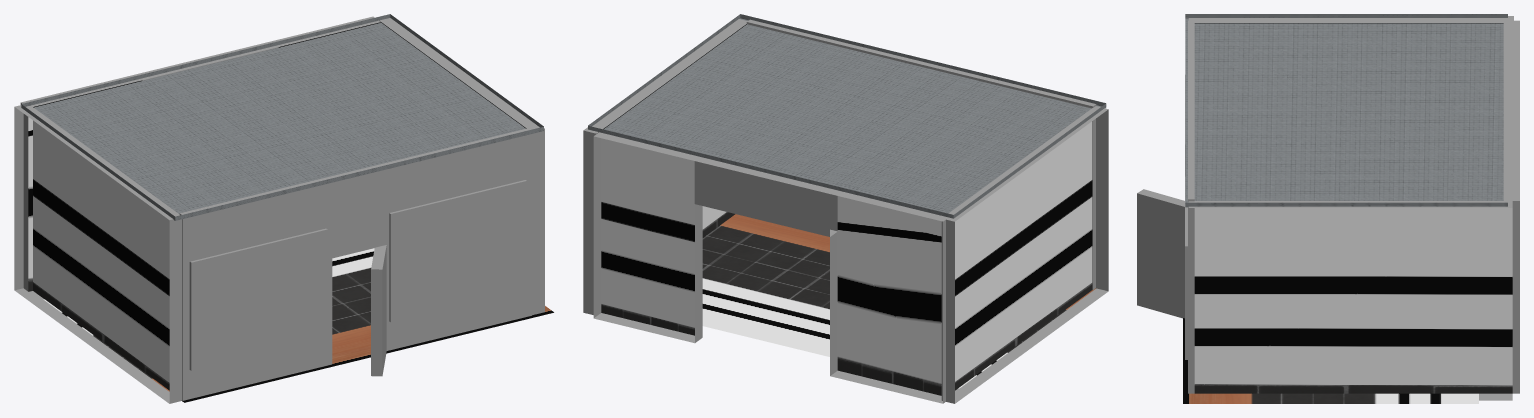
Rendered from diningroom_greybox.fbx.
3 views of the same model, side by side, from view 1: azimuth 30°, elevation 25°; view 2: azimuth 150°, elevation 25°; view 3: azimuth 270°, elevation 25° (orthographic). The views are drawn at different scales.
Visible parts, largest first — view 1: pCube534; view 2: pCube534; view 3: pCube534.
Boxes of the visible parts, left/top/right/bottom form: pCube534: left=14, top=14, right=553, bottom=403; pCube534: left=583, top=14, right=1108, bottom=403; pCube534: left=1137, top=14, right=1519, bottom=403.
Size of the model in its own units: 28.3 by 13.32 by 23.41.
